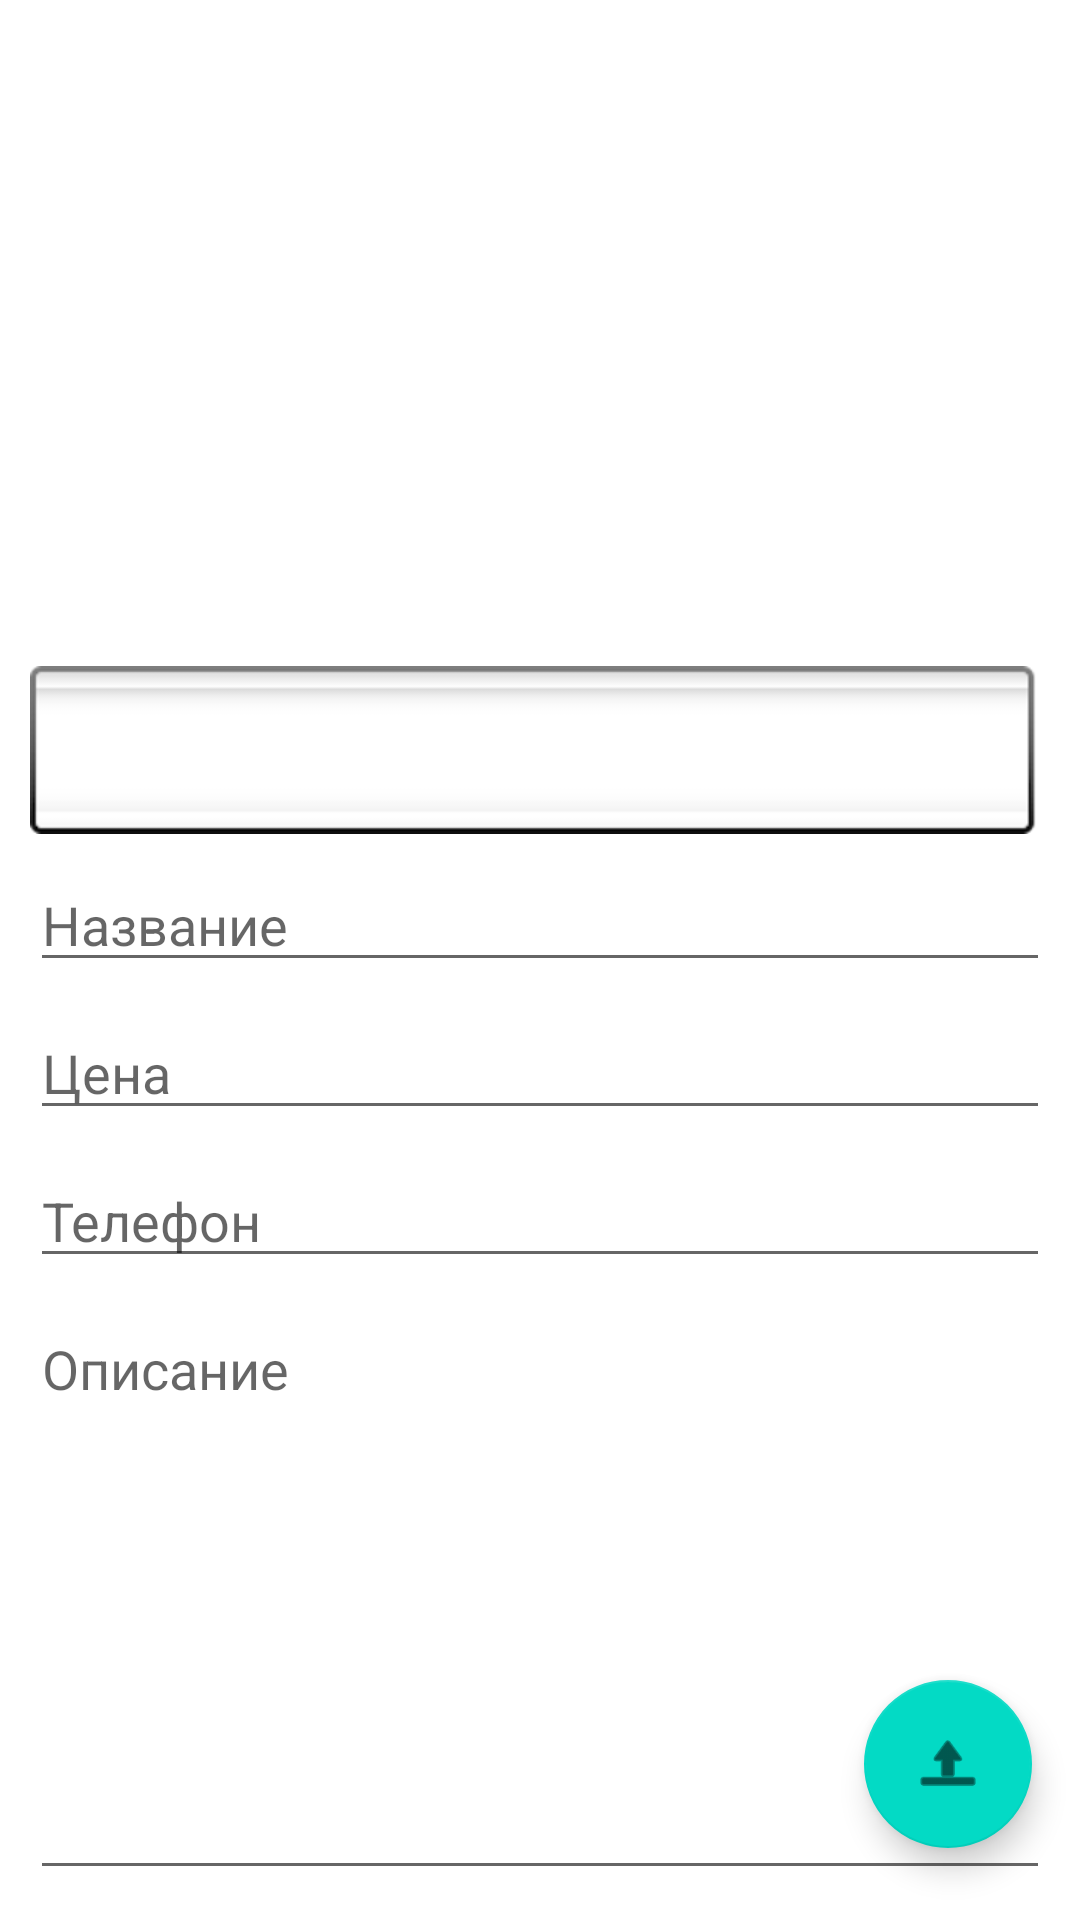

Named icons in this screenshot (1080px x 1920px) and their bounding boxes, {"left": x1, "top": y1, "right": x2, "bottom": y2}:
upload: {"left": 864, "top": 1680, "right": 1032, "bottom": 1848}
